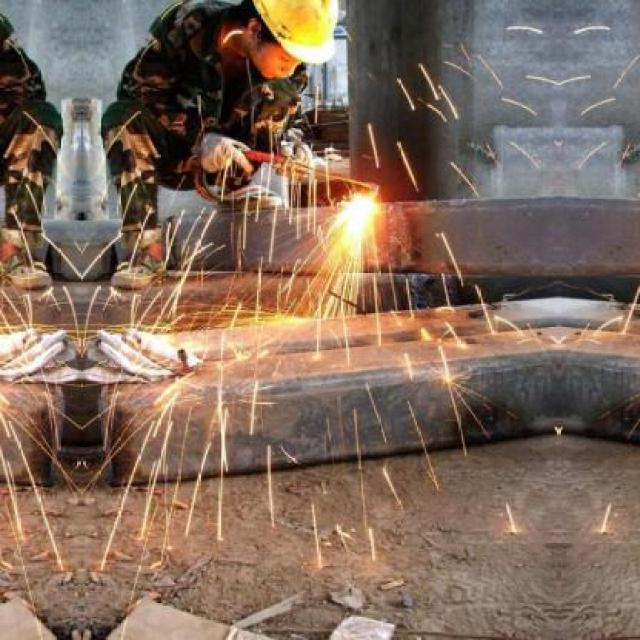helmet: (222, 1, 344, 95)
